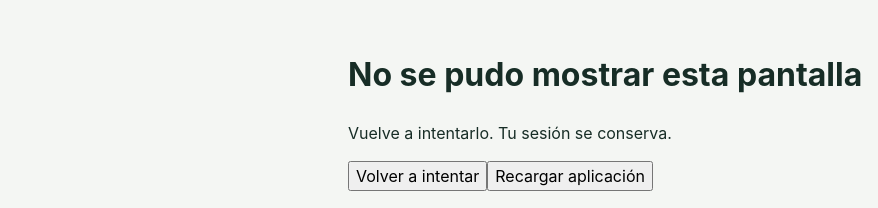
Scenario: contains a rendering failure and can recover without reloading or changing stored session
Expected: the button "Recargar aplicación" is shown, [487,161,653,191]
Click the button "Volver a intentar". click: (418, 176)
box: [348,161,487,191]
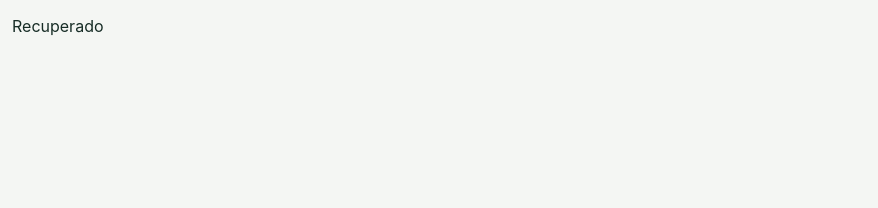
Expected: the text "Recuperado" is shown, [12,16,104,36]
